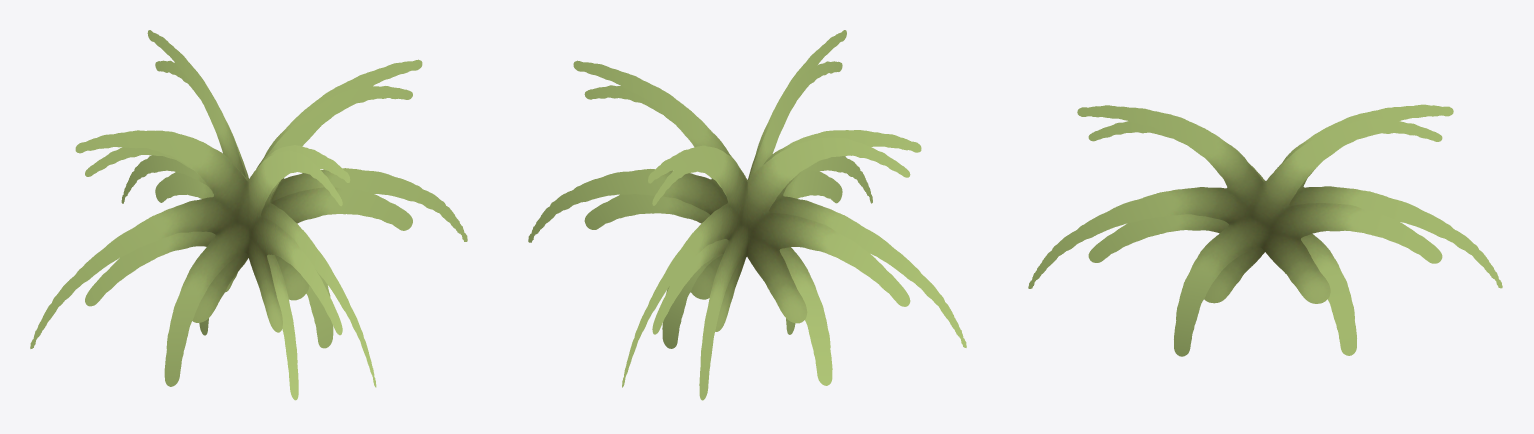
File: painted-weed-032.glb
3 renders of one model, left to right at view 1: azimuth 30°, elevation 25°; view 2: azimuth 150°, elevation 25°; view 3: azimuth 270°, elevation 25°, orthographic. The views are drawn at different scales.
Size of the model in its own units: 11.74 by 6.83 by 11.74.
1 material, 1 textured.
